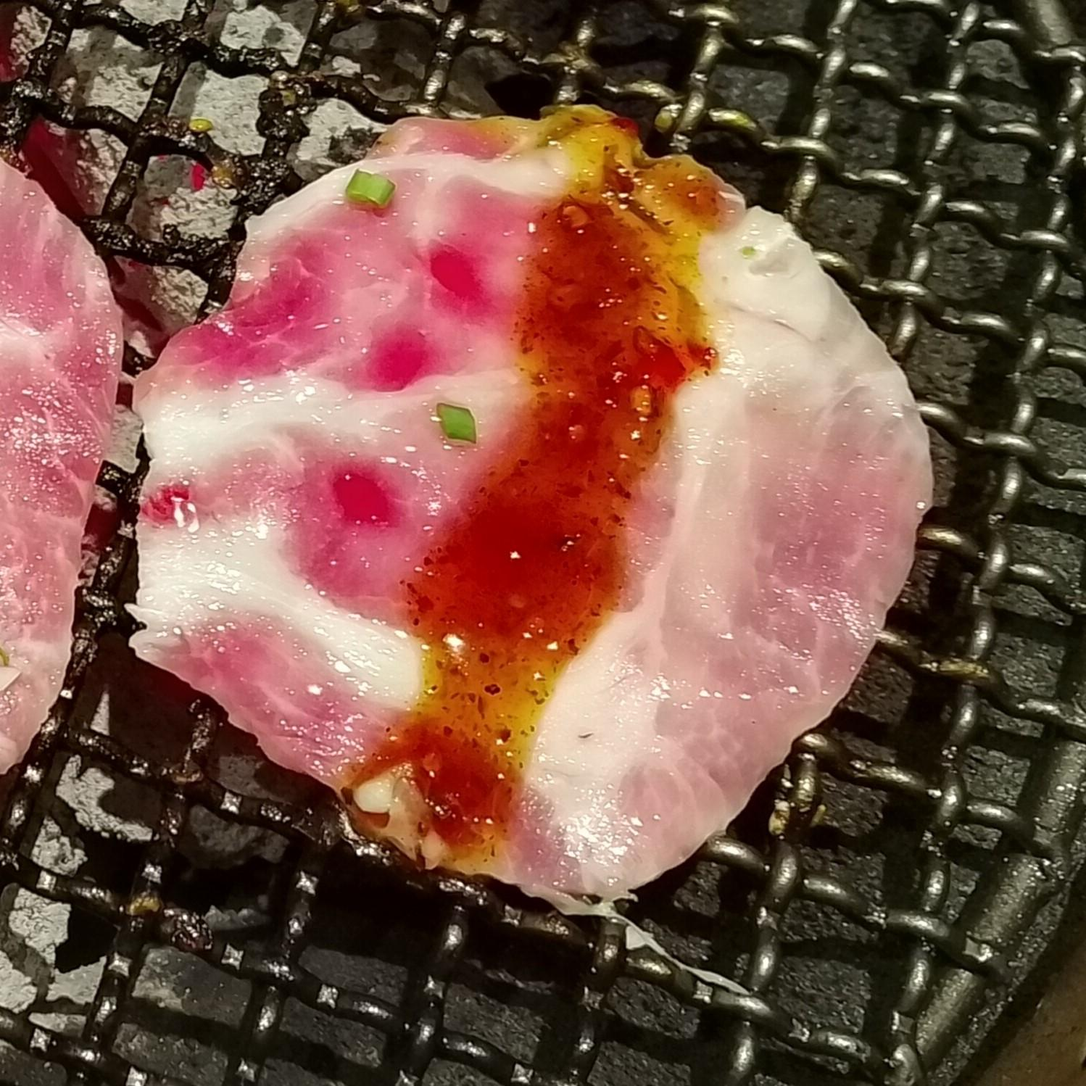Undercooked: (129, 107, 932, 913), (0, 160, 123, 773)
